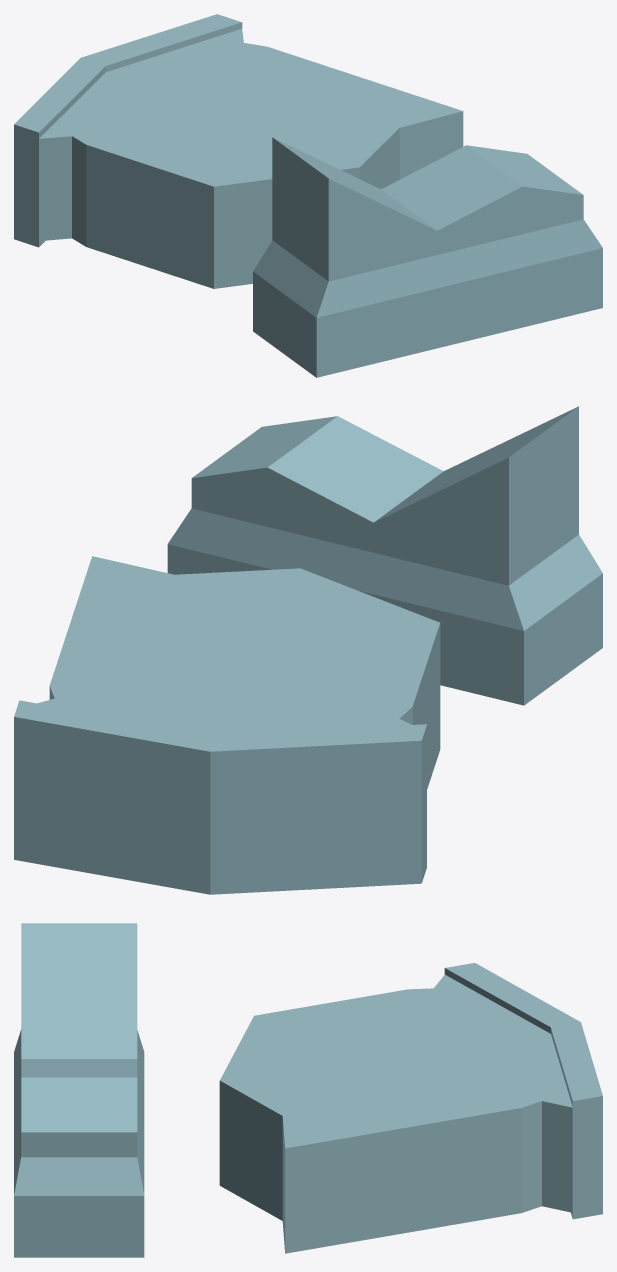
File: gravestoneDebris.dae
3 views of the same model, one above another, from view 1: azimuth 30°, elevation 25°; view 2: azimuth 150°, elevation 25°; view 3: azimuth 270°, elevation 25° (orthographic). The views are drawn at different scales.
Parts seen in each view (by area): view 1: gravestoneDebris; view 2: gravestoneDebris; view 3: gravestoneDebris.
Part boxes in pixels (box(x1,y1,x2,y2)): gravestoneDebris: box(14, 14, 602, 377); gravestoneDebris: box(14, 406, 602, 894); gravestoneDebris: box(14, 923, 602, 1257).
Bounding box in the file's own units: 0.4968 × 0.2592 × 0.6751.
